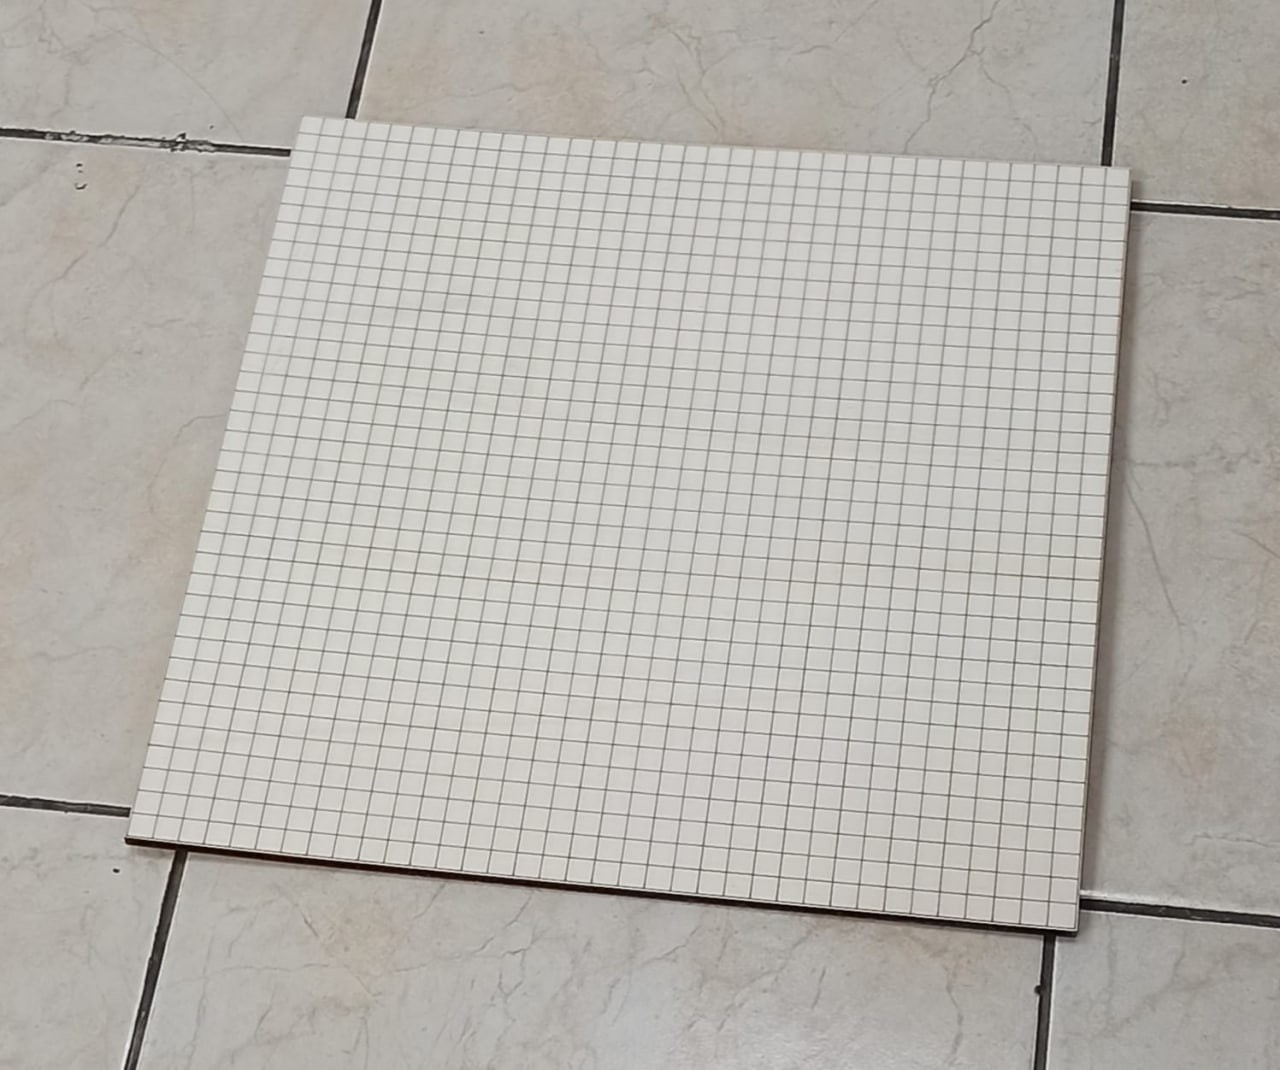grid: (120, 104, 1140, 949)
